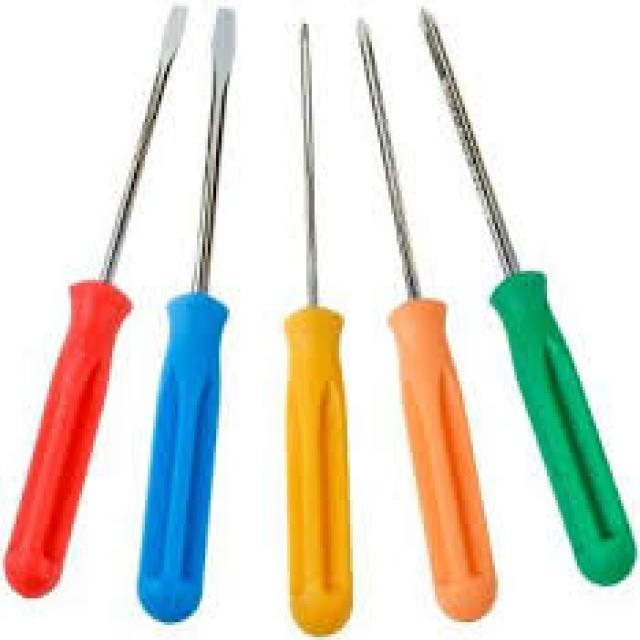screwdriver: (408, 4, 640, 583), (0, 0, 197, 598), (345, 7, 500, 622), (128, 0, 256, 626), (282, 8, 358, 640)
